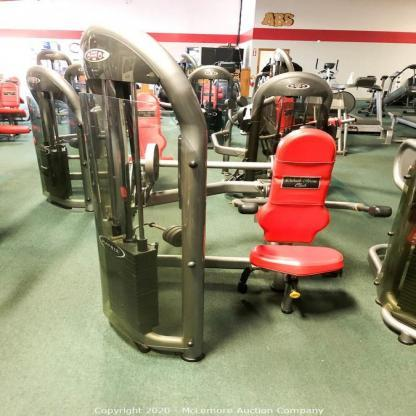seated dip machine: (86, 123, 396, 365)
